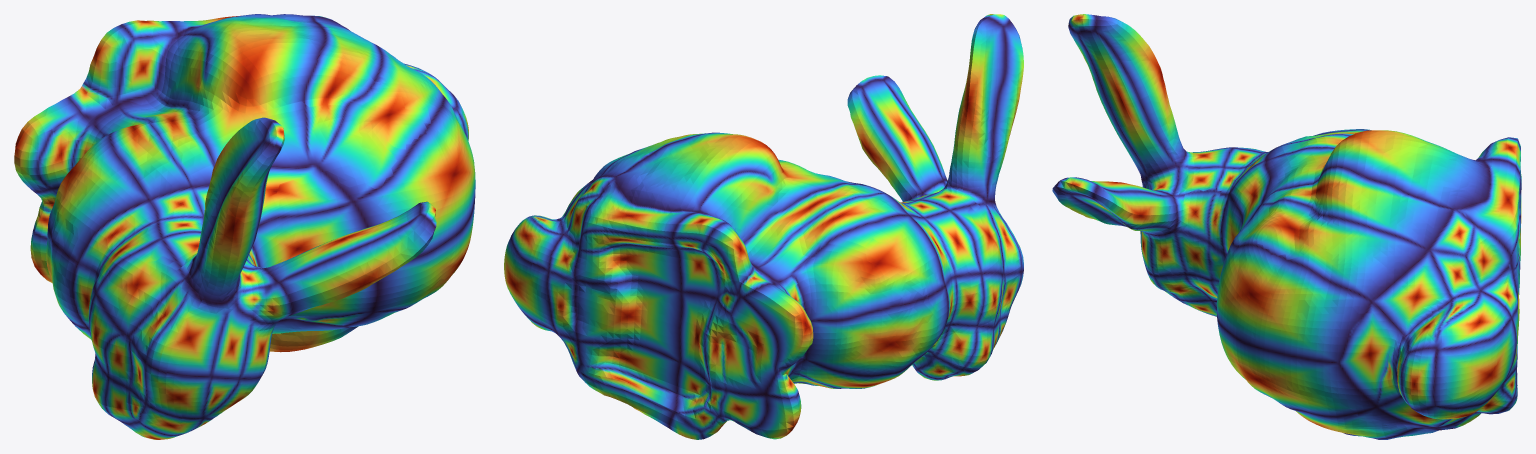
Rendered from gen3.glb.
3 renders of one model, left to right at view 1: azimuth 30°, elevation 25°; view 2: azimuth 150°, elevation 25°; view 3: azimuth 270°, elevation 25°, orthographic. The views are drawn at different scales.
Visible parts, largest first — view 1: Node; view 2: Node; view 3: Node.
Boxes of the visible parts, x1,y1,x2,y2 form: Node: [14, 14, 475, 439]; Node: [504, 14, 1023, 439]; Node: [1052, 14, 1521, 439].
Size of the model in its own units: 0.6266 by 0.4796 by 0.6102.
1 material, 1 textured.
